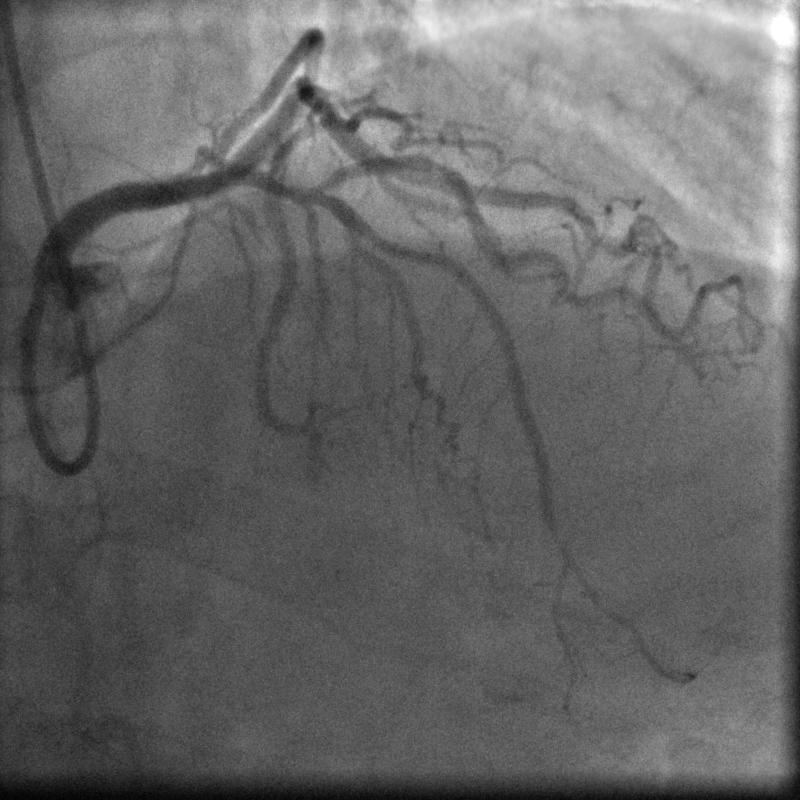Stenosis: (414, 151, 459, 191)
